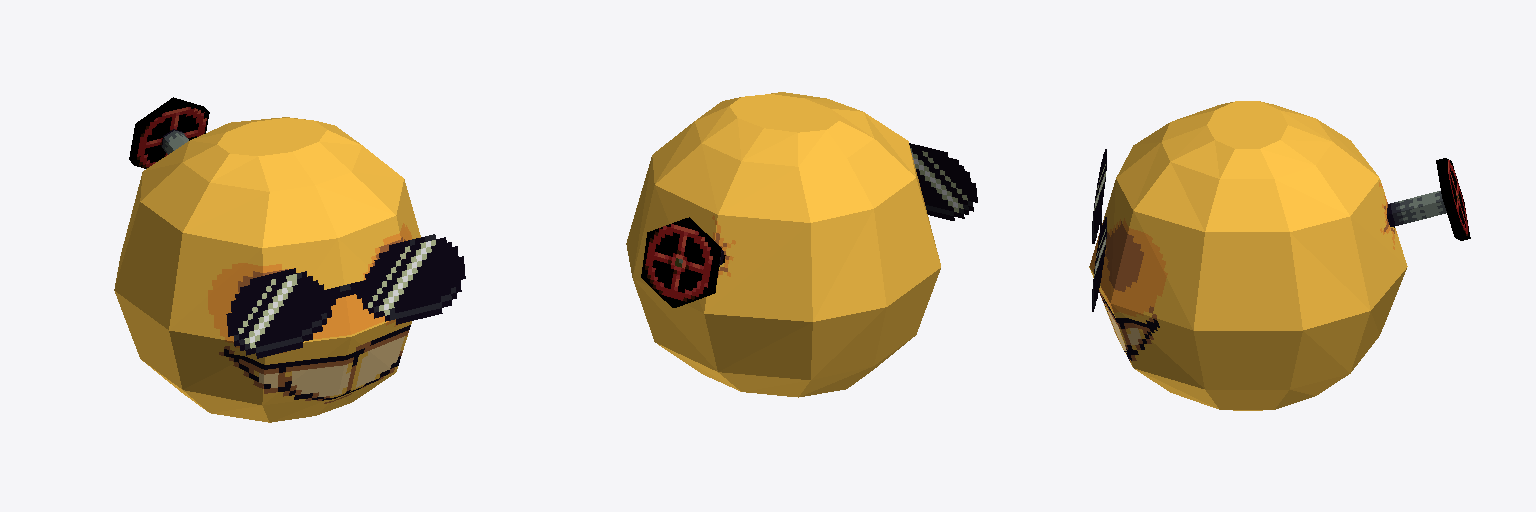
The picture shows the model from 3 angles: view 1: azimuth 30°, elevation 25°; view 2: azimuth 150°, elevation 25°; view 3: azimuth 270°, elevation 25°; orthographic projection.
Visible parts, largest first — view 1: Head; view 2: Head; view 3: Head.
Boxes of the visible parts, x1=… form: Head: x1=114, y1=97, x2=465, y2=422; Head: x1=626, y1=92, x2=977, y2=397; Head: x1=1089, y1=101, x2=1470, y2=410.
Size of the model in its own units: 2.27 by 2.17 by 2.87.
1 materials, 1 textured.